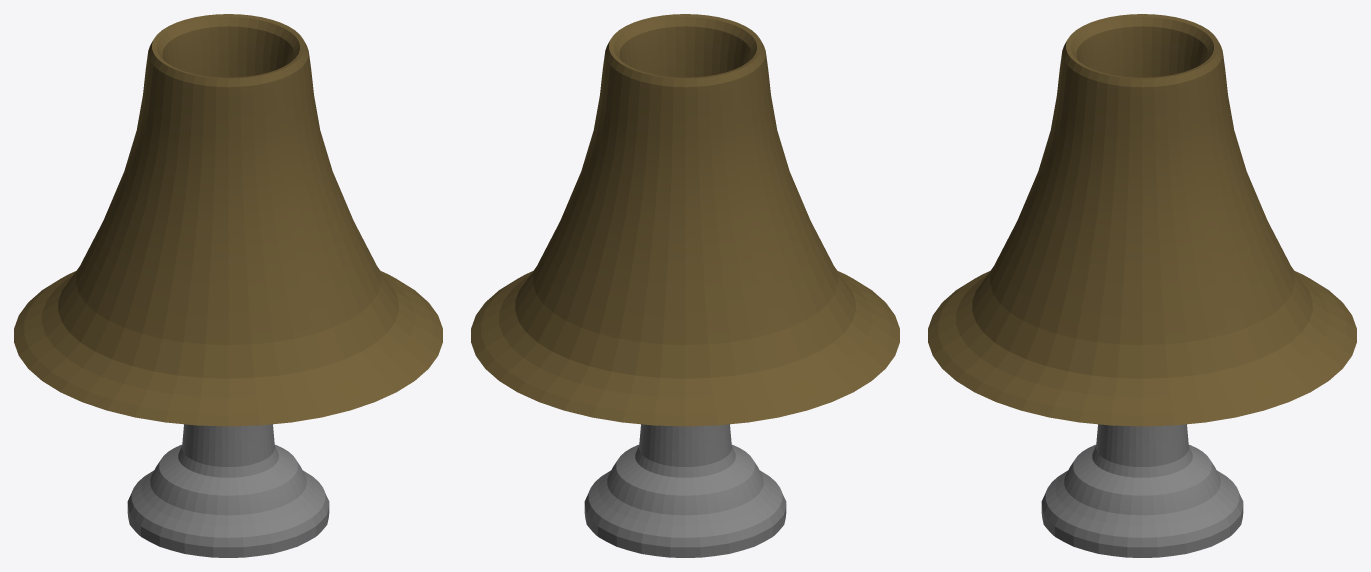
The model's file is lampa noptiera.fbx.
The picture shows the model from 3 angles, left to right: view 1: azimuth 30°, elevation 25°; view 2: azimuth 150°, elevation 25°; view 3: azimuth 270°, elevation 25°; orthographic projection.
Parts seen in each view (by area): view 1: Cylinder.002; view 2: Cylinder.002; view 3: Cylinder.002.
Part boxes in pixels (x1,y1,x2,y2): Cylinder.002: [14, 14, 442, 557]; Cylinder.002: [471, 14, 899, 557]; Cylinder.002: [928, 14, 1356, 557].
Bounding box in the file's own units: 47.04 × 56.6 × 46.91.
